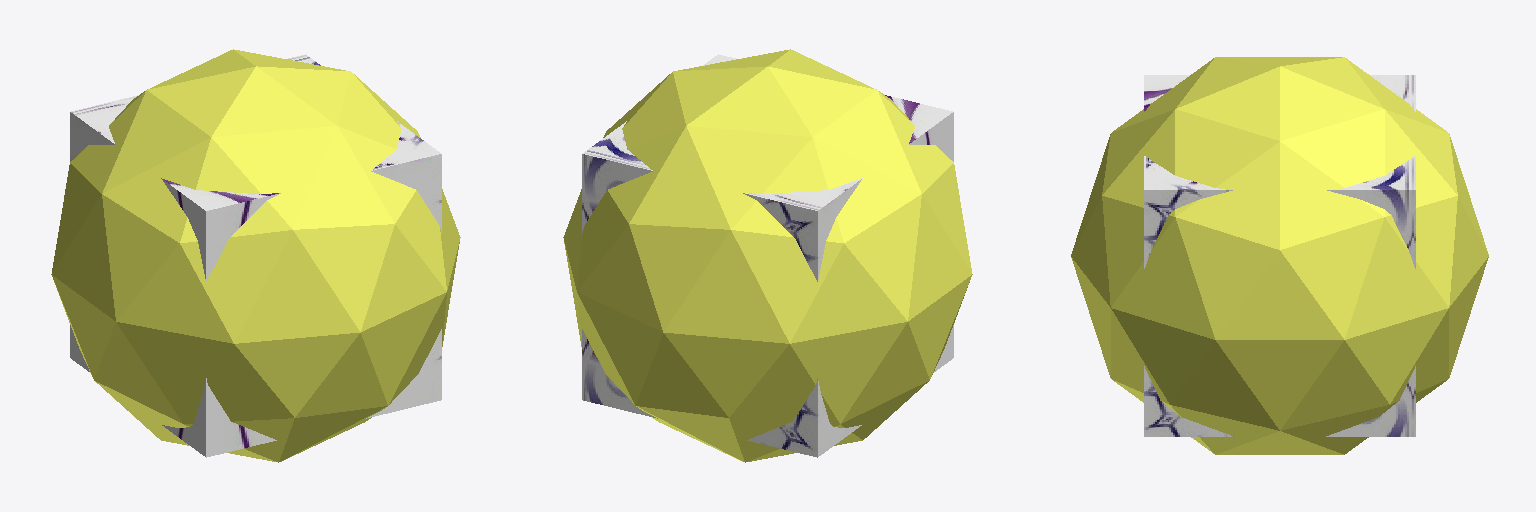
The picture shows the model from 3 angles: view 1: azimuth 30°, elevation 25°; view 2: azimuth 150°, elevation 25°; view 3: azimuth 270°, elevation 25°; orthographic projection.
Parts seen in each view (by area): view 1: Ico_球體, 立方體; view 2: Ico_球體, 立方體; view 3: Ico_球體, 立方體.
Boxes of the visible parts, box(x1,y1,x2,y2) form: Ico_球體: box(51, 49, 460, 462); 立方體: box(70, 54, 441, 457); Ico_球體: box(563, 49, 972, 462); 立方體: box(582, 54, 953, 457); Ico_球體: box(1071, 57, 1488, 454); 立方體: box(1144, 75, 1415, 436).
Size of the model in its own units: 3.8 by 4 by 4.
Materials: 2 (2 with a texture image).